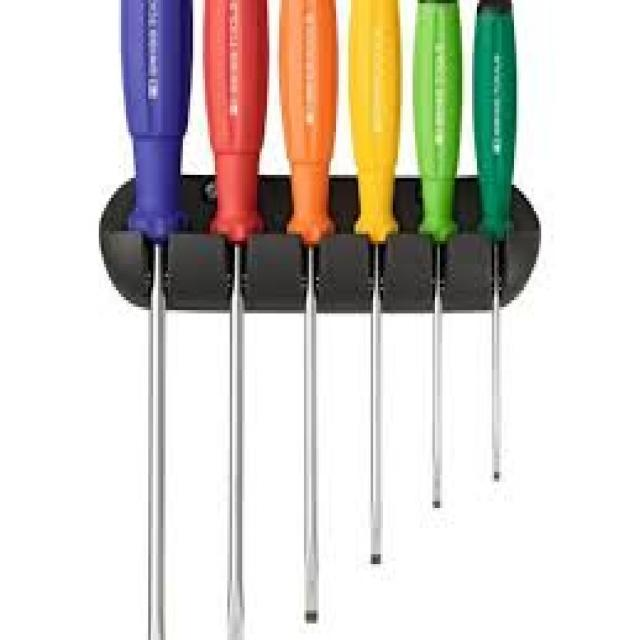screwdriver: (114, 0, 200, 638), (200, 0, 272, 640), (274, 0, 344, 624), (344, 0, 406, 564), (407, 0, 469, 511), (468, 0, 523, 492)
